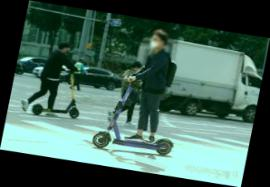nonhelmet: (90, 21, 197, 160), (18, 37, 93, 124)
